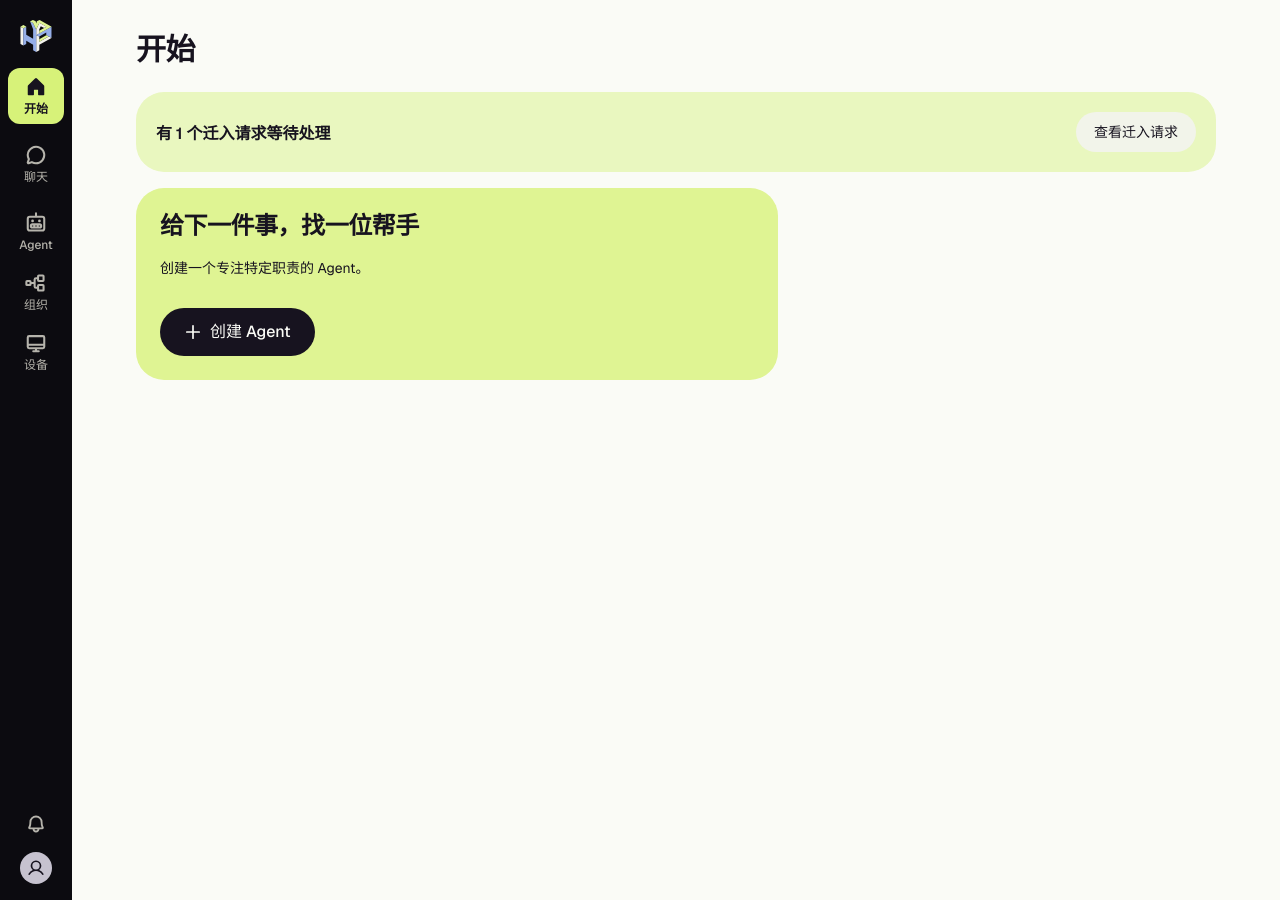
it: Agent 页的组织入口 › 卡片显示所属组织；按组织筛选时命中的组织排第一，清除筛选一并清除
Click the button "Agent": (36, 232) [8,204,64,260]
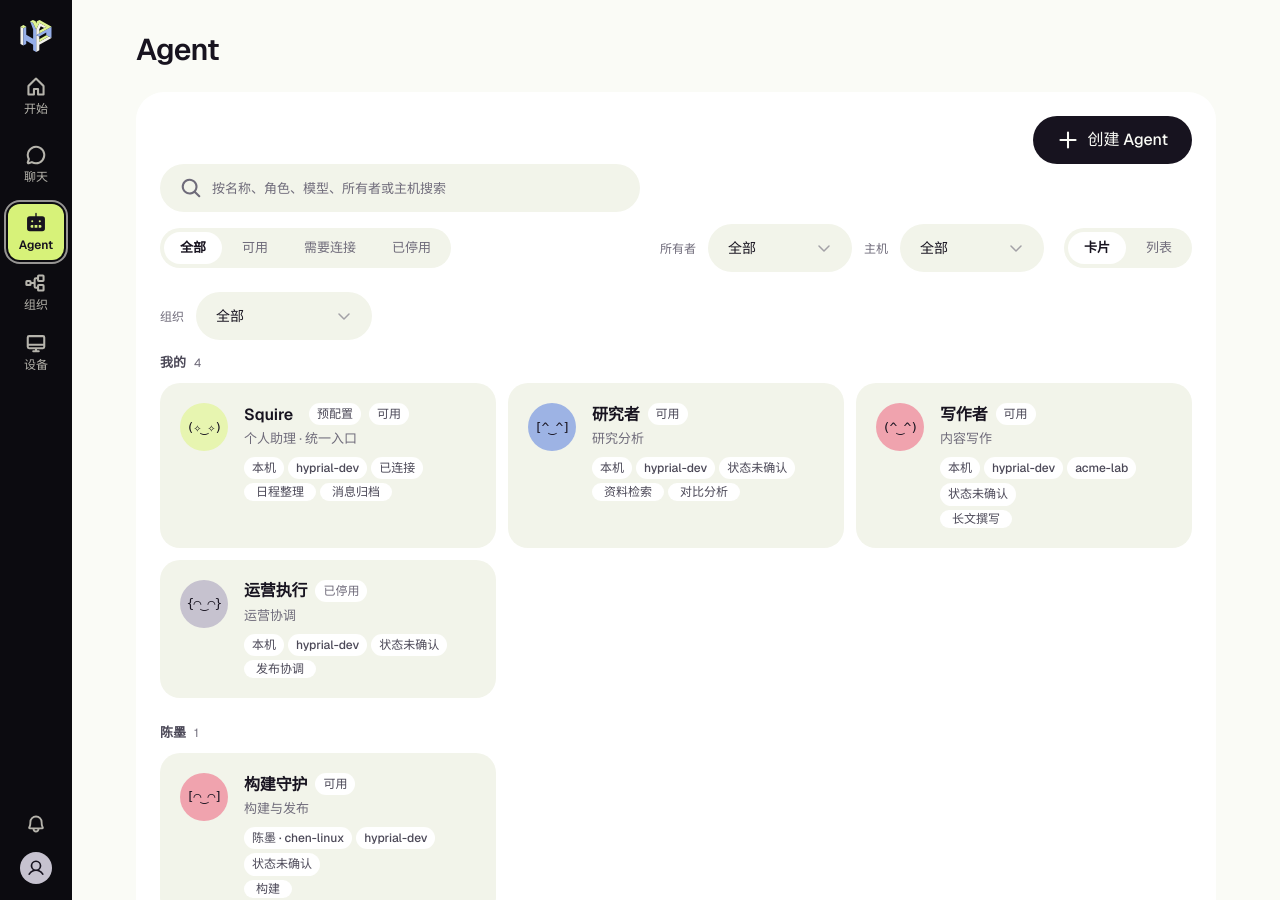
Click the dropdown named "组织": (284, 316) [196,292,372,340]
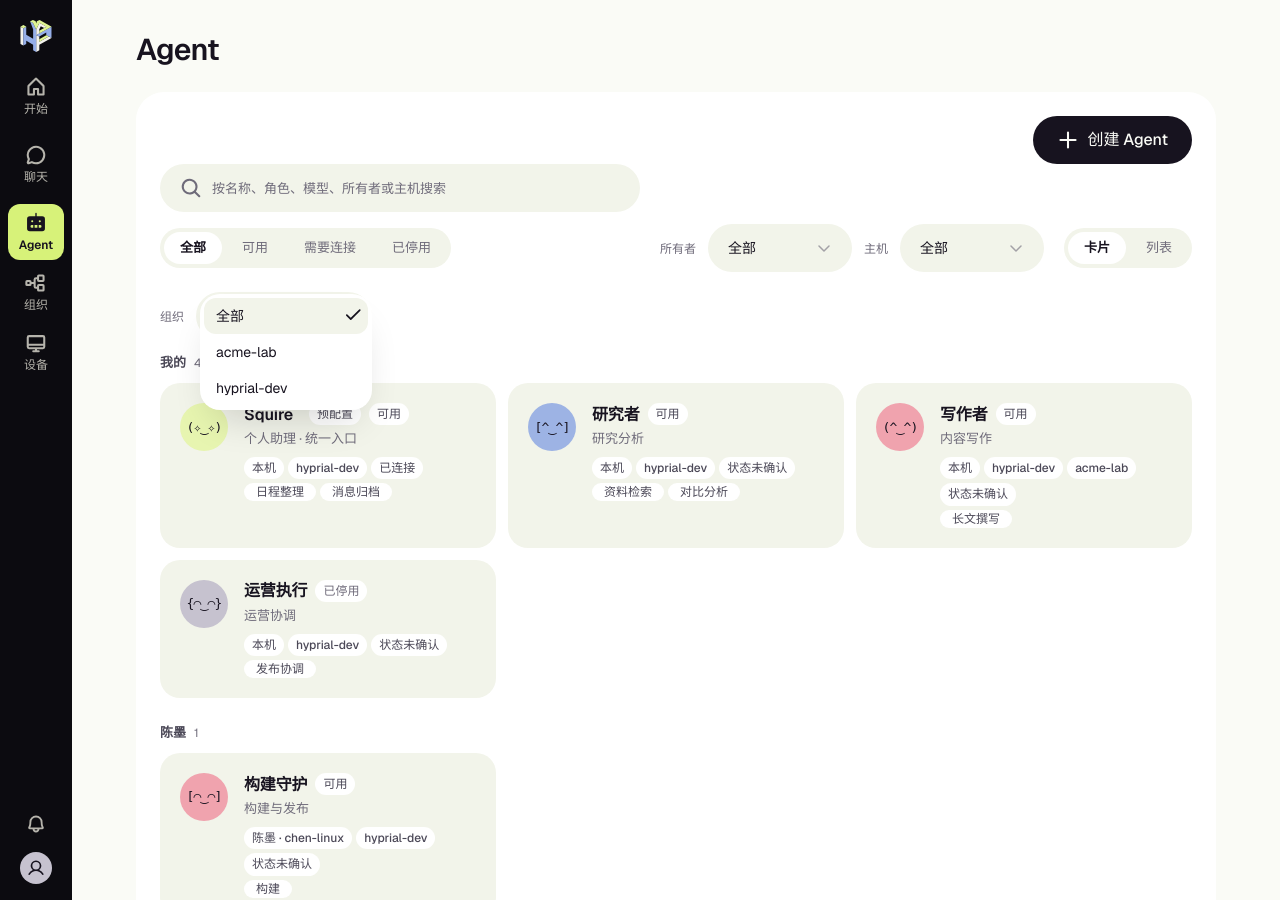
Click the option "acme-lab": (246, 352) [216,343,277,361]
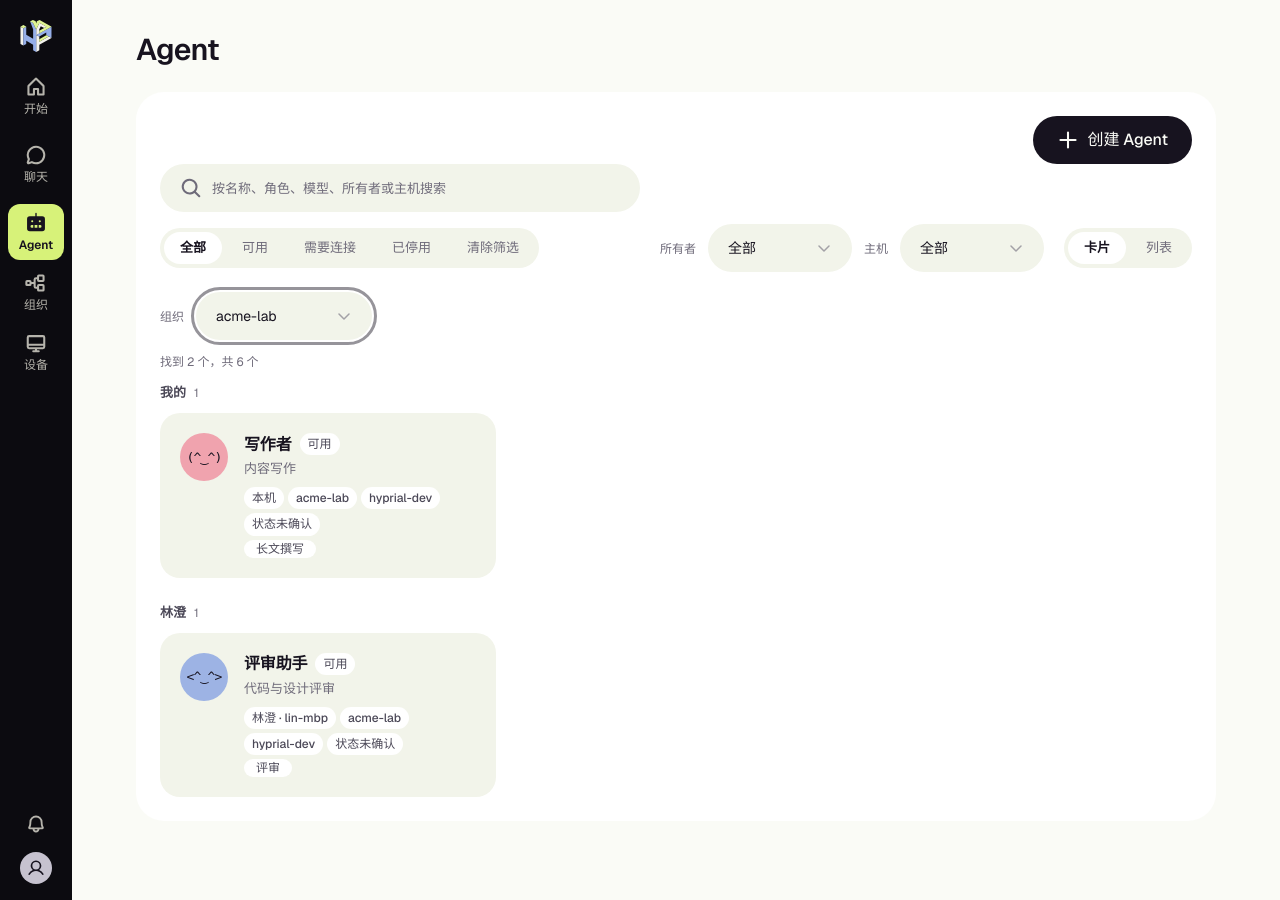
Now the text "找到 2 个，共 6 个" is shown, box [160,354,258,370]
Now the button with test id "contact-agent-researcher" is gone
Click the button "清除筛选": (493, 248) [451,232,535,264]
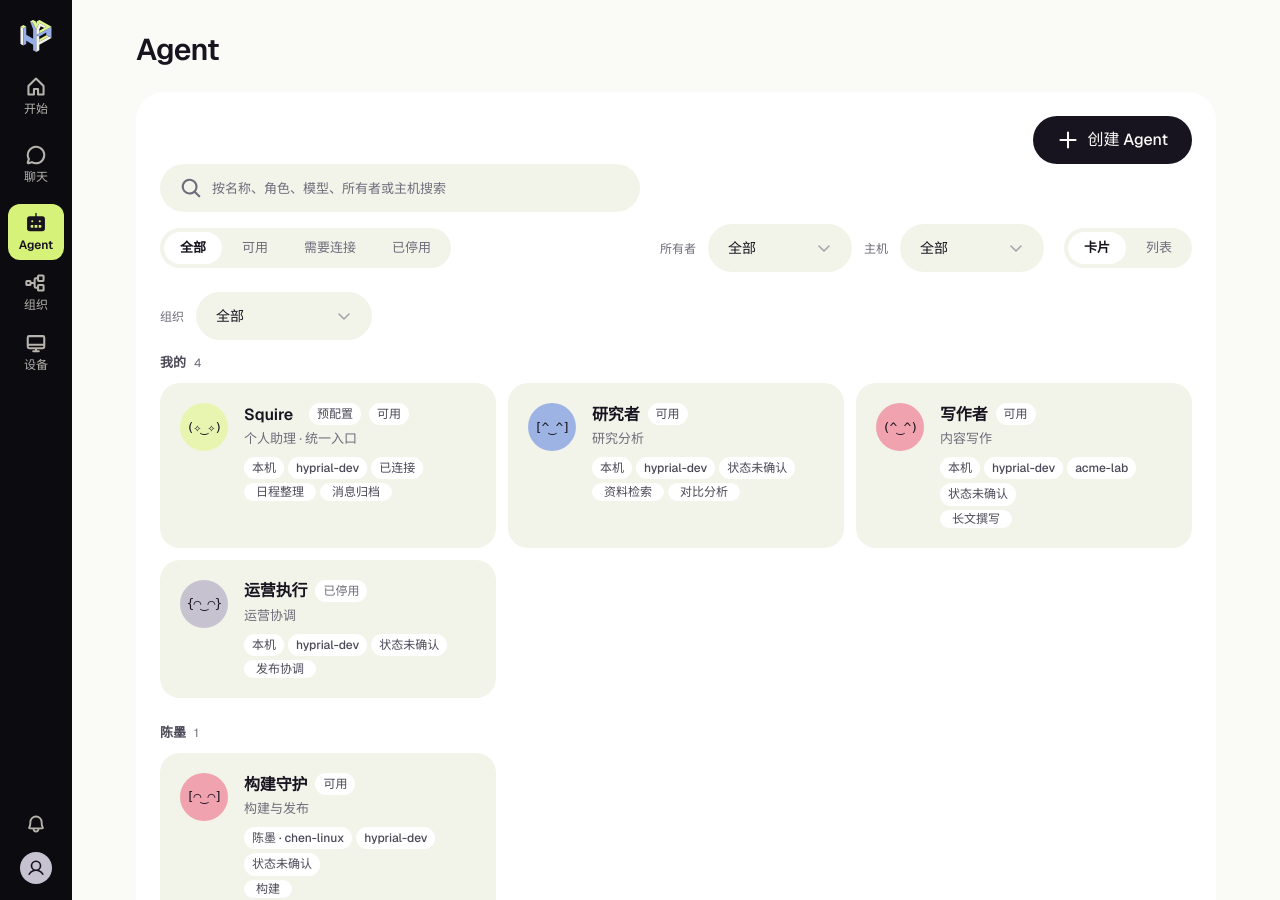
Now the text "找到 2 个，共 6 个" is gone
Now the dropdown named "组织" reads "全部", box [196,292,372,340]
